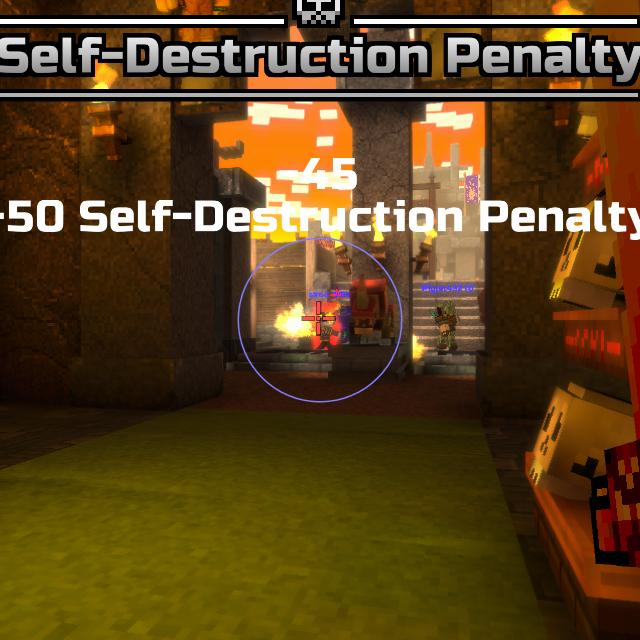Enemy: (316, 312, 341, 349)
